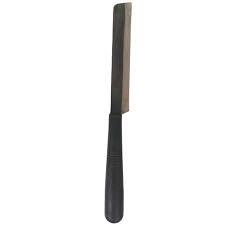Knife: (104, 1, 132, 223)
